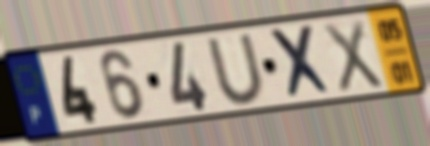4: (168, 38, 211, 115), (61, 53, 100, 127)
6: (98, 47, 148, 122)
U: (203, 30, 270, 107)
X: (265, 23, 338, 103), (319, 17, 387, 96)
